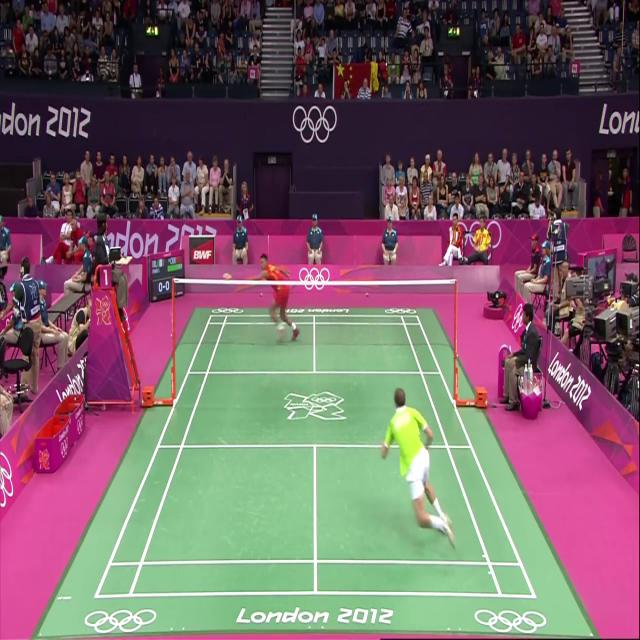Net: (174, 278, 458, 379)
Player1: (378, 329, 454, 591)
Player2: (258, 236, 294, 367)
